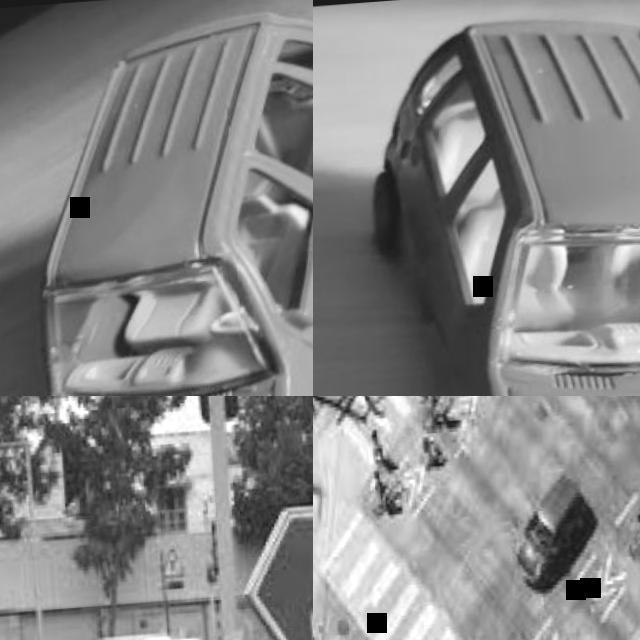car: (33, 0, 317, 442), (369, 14, 639, 394), (231, 400, 472, 639)
